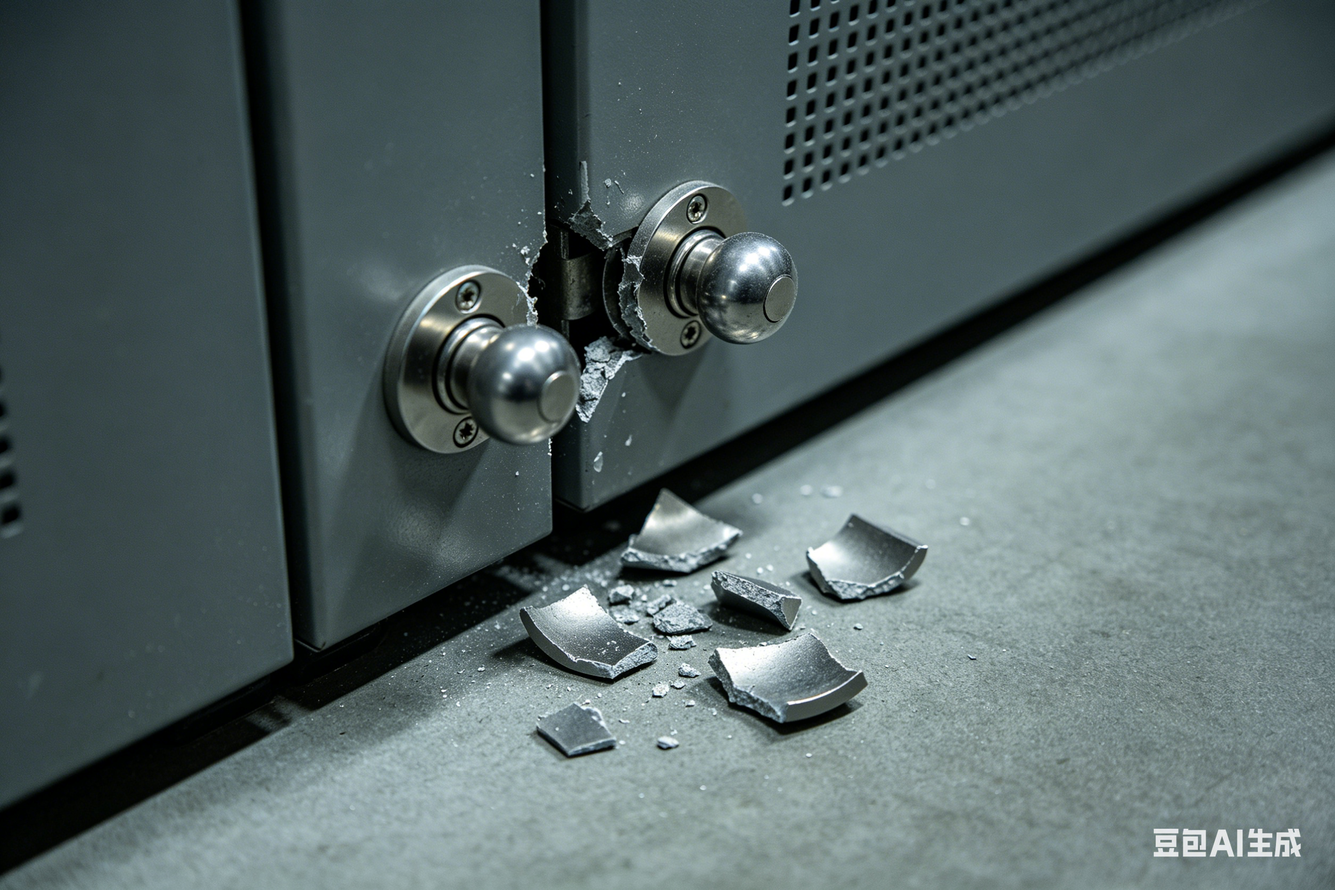BadLock: (521, 218, 651, 425)
